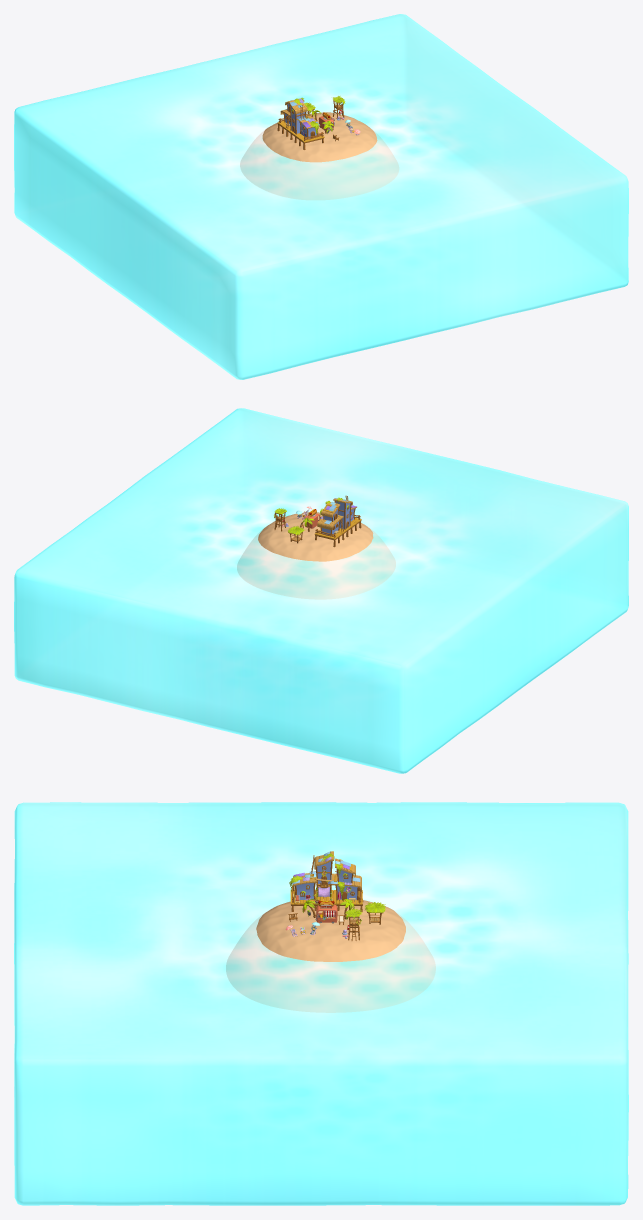
The model's file is beach_island-transformed-j6PSep41.glb.
The picture shows the model from 3 angles, top to bottom: view 1: azimuth 30°, elevation 25°; view 2: azimuth 150°, elevation 25°; view 3: azimuth 270°, elevation 25°; orthographic projection. The views are drawn at different scales.
Visible parts, largest first — view 1: Plane.250_Plane.2737_Material.047_Material.047_0, Plane.093_Plane.2571_Material.025_Material.025_0; view 2: Plane.250_Plane.2737_Material.047_Material.047_0, Plane.093_Plane.2571_Material.025_Material.025_0; view 3: Plane.250_Plane.2737_Material.047_Material.047_0, Plane.093_Plane.2571_Material.025_Material.025_0.
Part boxes in pixels (x1=…): Plane.250_Plane.2737_Material.047_Material.047_0: x1=14, y1=14, x2=628, y2=379; Plane.093_Plane.2571_Material.025_Material.025_0: x1=240, y1=96, x2=398, y2=199; Plane.250_Plane.2737_Material.047_Material.047_0: x1=14, y1=408, x2=628, y2=773; Plane.093_Plane.2571_Material.025_Material.025_0: x1=237, y1=495, x2=395, y2=598; Plane.250_Plane.2737_Material.047_Material.047_0: x1=14, y1=802, x2=628, y2=1205; Plane.093_Plane.2571_Material.025_Material.025_0: x1=226, y1=851, x2=435, y2=1012.
Bounding box in the file's own units: 107 × 40.7 × 107.
Materials: 10 (9 with a texture image).
